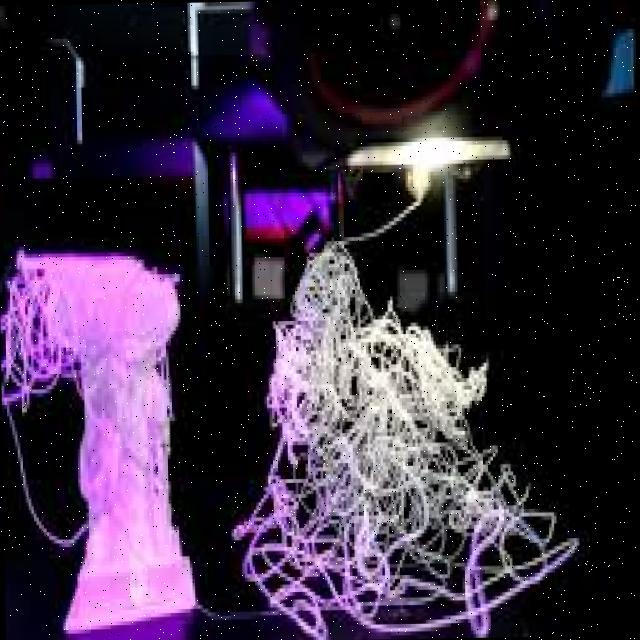spaghetti: (222, 183, 600, 640), (0, 237, 84, 430), (144, 321, 182, 440)
